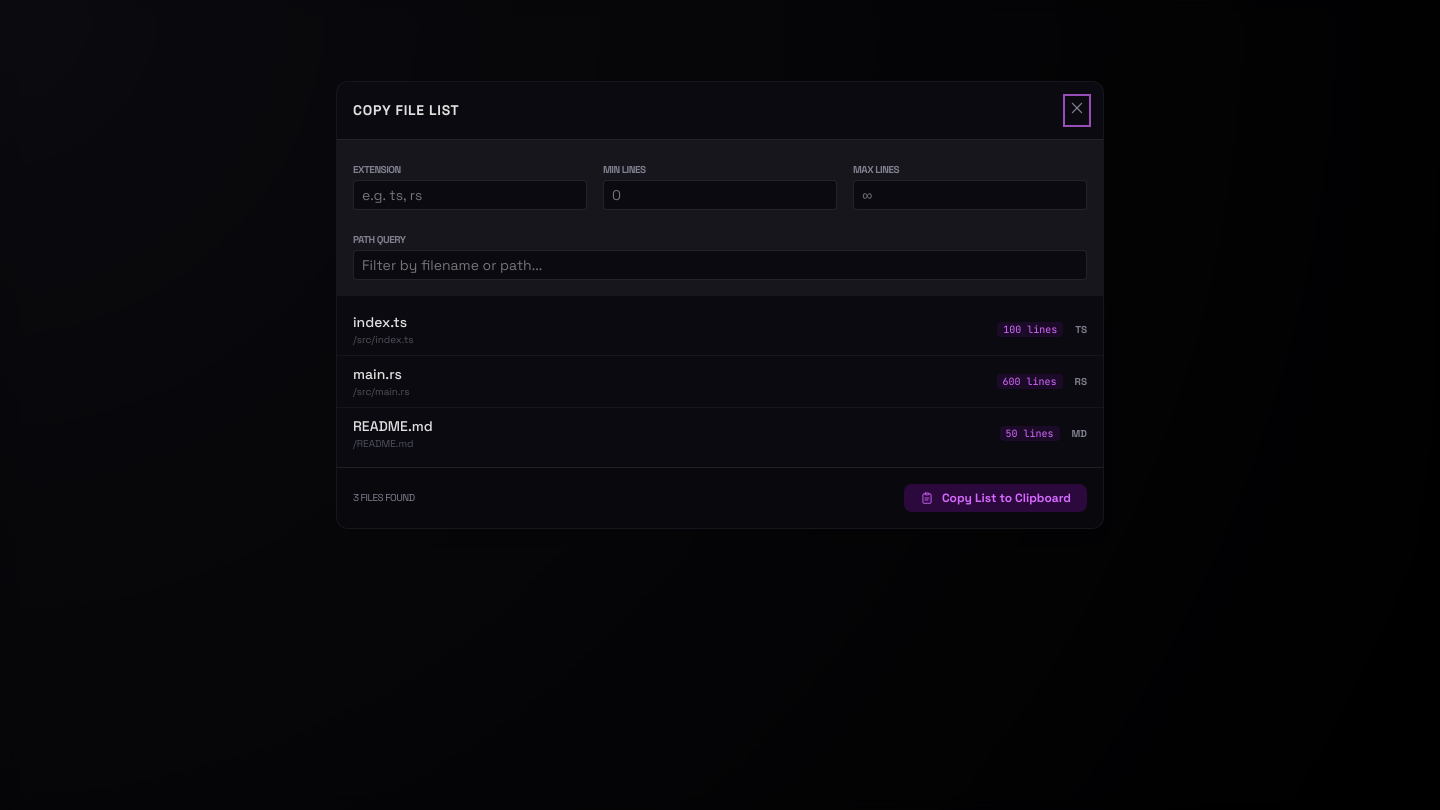
Test: FileSelector › filters by min lines
Type "500" into the number field with placeholder "0". click: (720, 194)
box: [603,180,837,210]
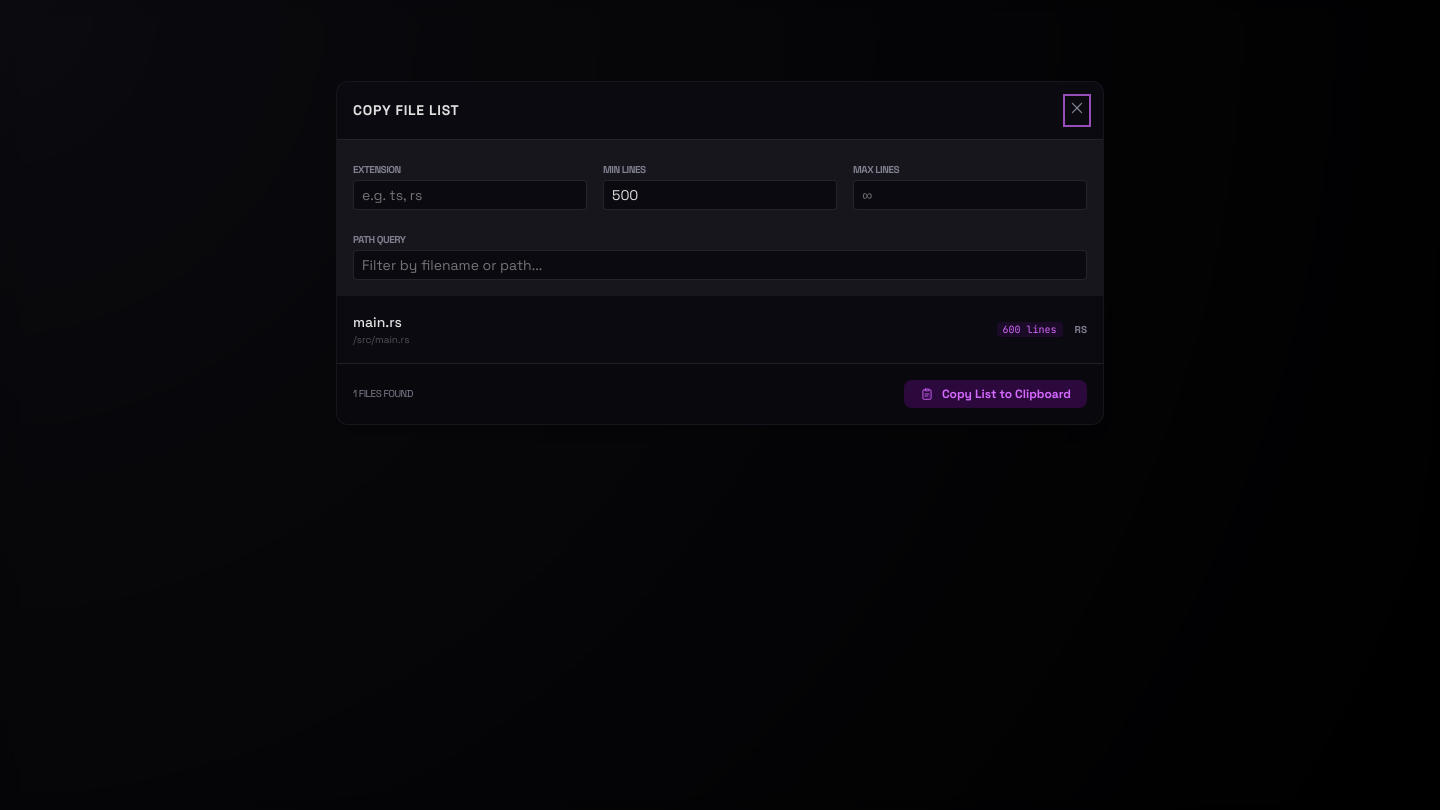
expect the text "main.rs" is shown: met, box [353,312,409,332]
expect the text "index.ts" is gone: met
